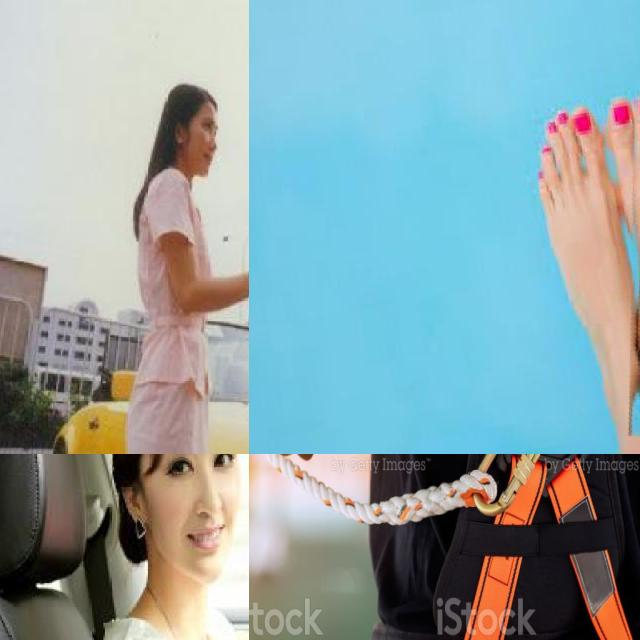Barefoots: (525, 94, 640, 454), (584, 64, 640, 446)
Harness: (335, 454, 640, 640)
face_nomask: (149, 454, 246, 579), (182, 101, 218, 170)
head_nohelmet: (158, 78, 225, 120)
person: (110, 71, 249, 454), (69, 454, 249, 640)
